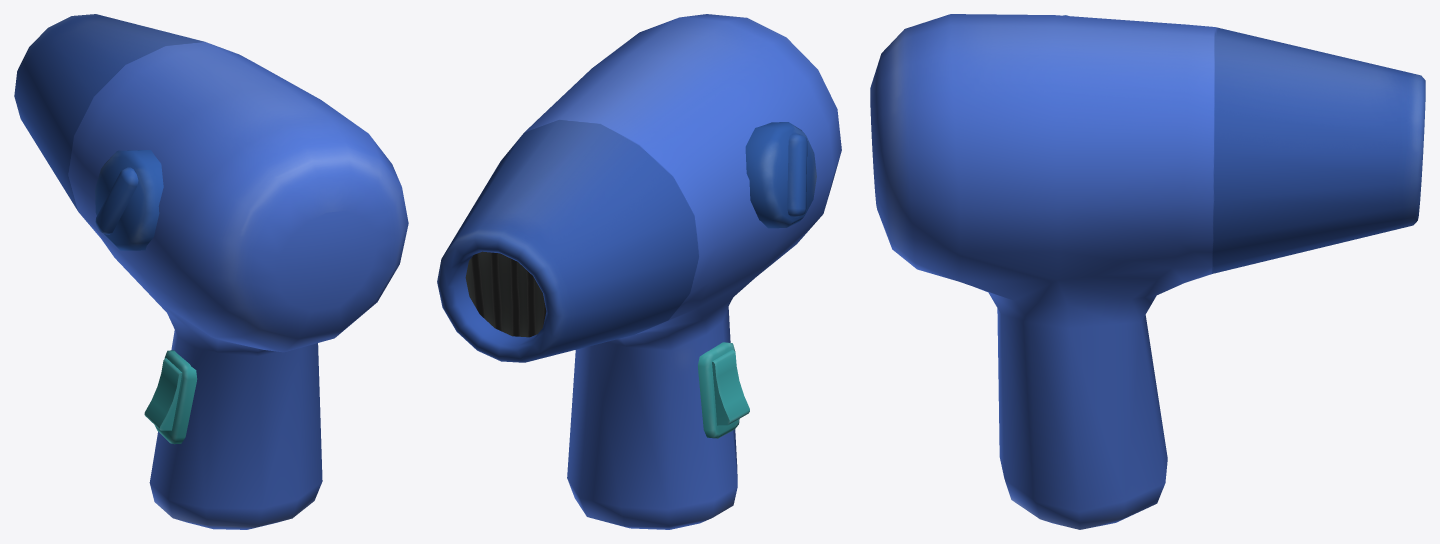
The model's file is HairDryer.FBX.
3 renders of one model, left to right at view 1: azimuth 30°, elevation 25°; view 2: azimuth 150°, elevation 25°; view 3: azimuth 270°, elevation 25°, orthographic. The views are drawn at different scales.
Parts seen in each view (by area): view 1: HairDryer; view 2: HairDryer; view 3: HairDryer.
Part boxes in pixels (x1=…): HairDryer: x1=14, y1=14, x2=408, y2=529; HairDryer: x1=437, y1=14, x2=841, y2=529; HairDryer: x1=870, y1=14, x2=1425, y2=529.
Bounding box in the file's own units: 24.86 × 41.47 × 44.39.
